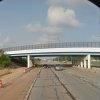Bridge: (4, 39, 99, 66)
